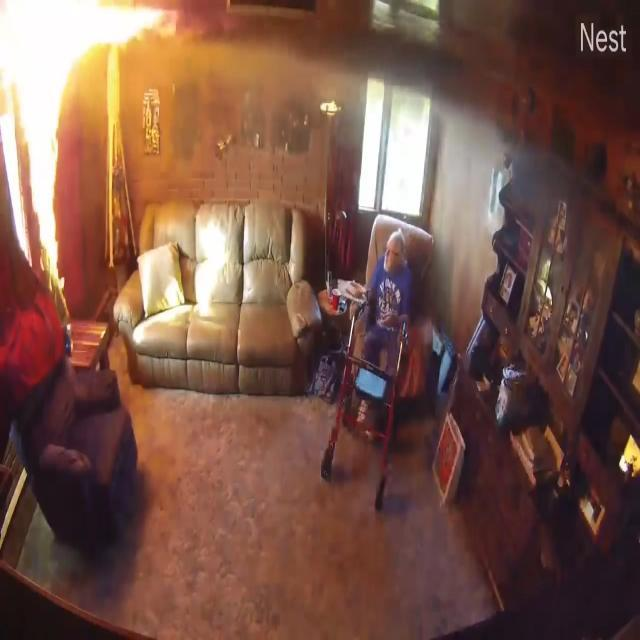Fire: (1, 0, 165, 231)
